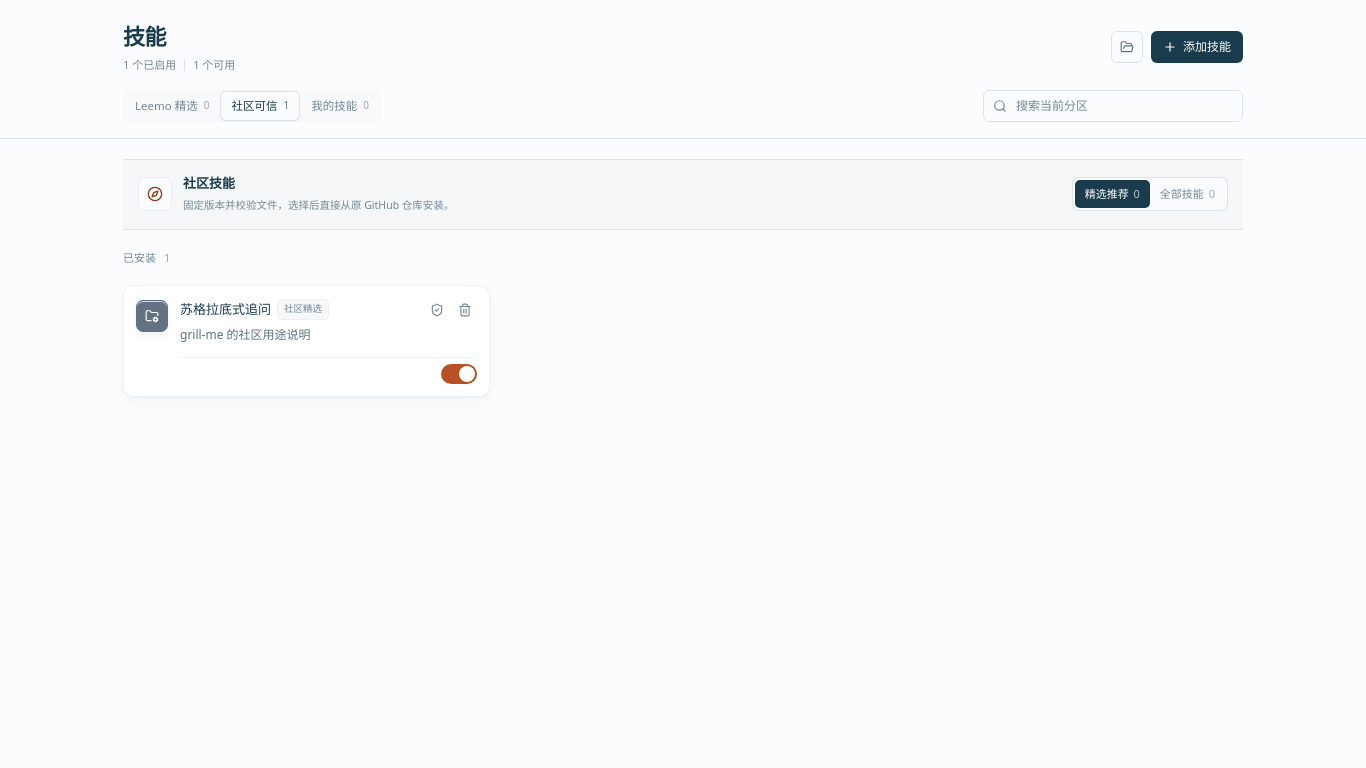
Test: SkillsPage — product-facing sections › keeps installed Skill controls available inside the detail view
The width and height of the screenshot is (1366, 768).
What coordinates should you click on to do the following:
click the button with aria-label "查看 苏格拉底式追问 详情"
I would click on:
 (226, 310)
Its box is [180,300,271,319].
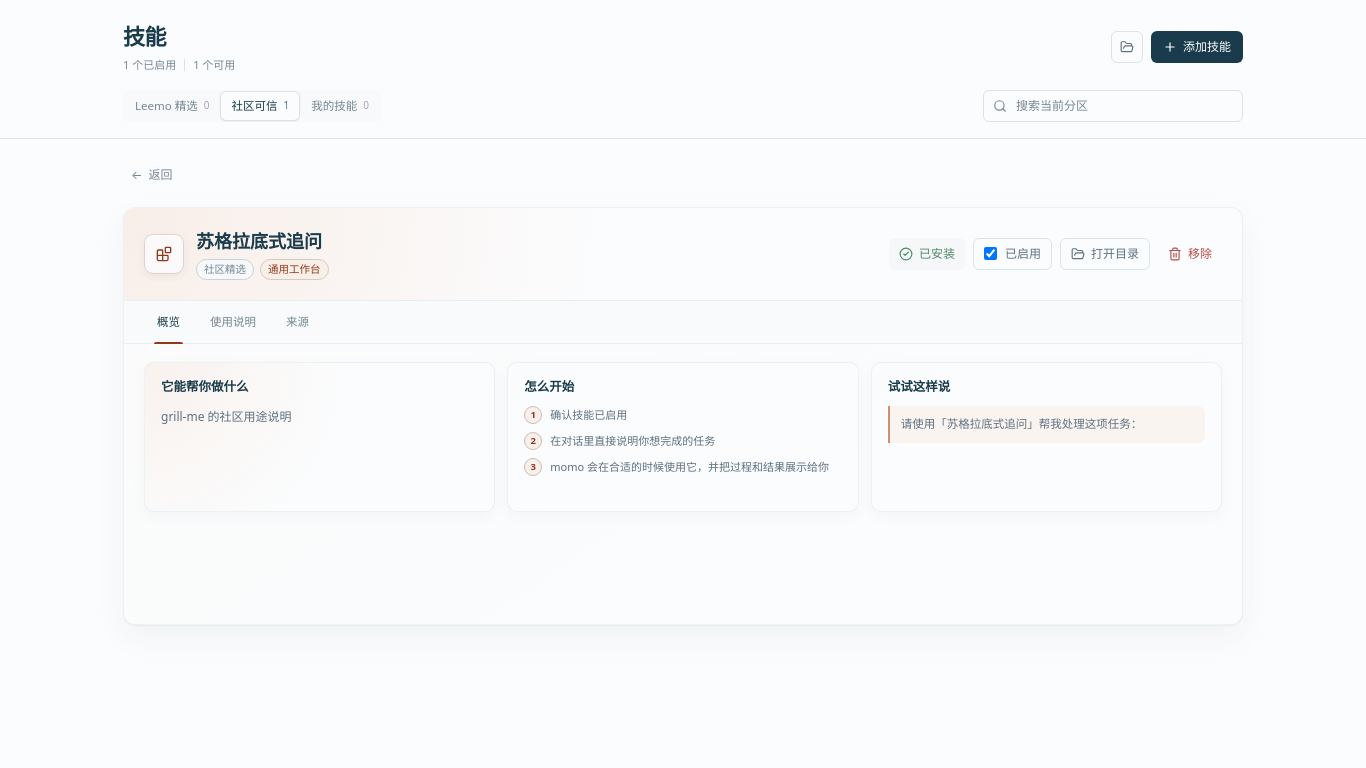
Check: the checkbox named "让 momo 用 苏格拉底式追问" is checked
What coordinates should you click on to do the following:
click the checkbox named "让 momo 用 苏格拉底式追问"
I would click on:
 (990, 254)
Its box is [984,247,997,260].
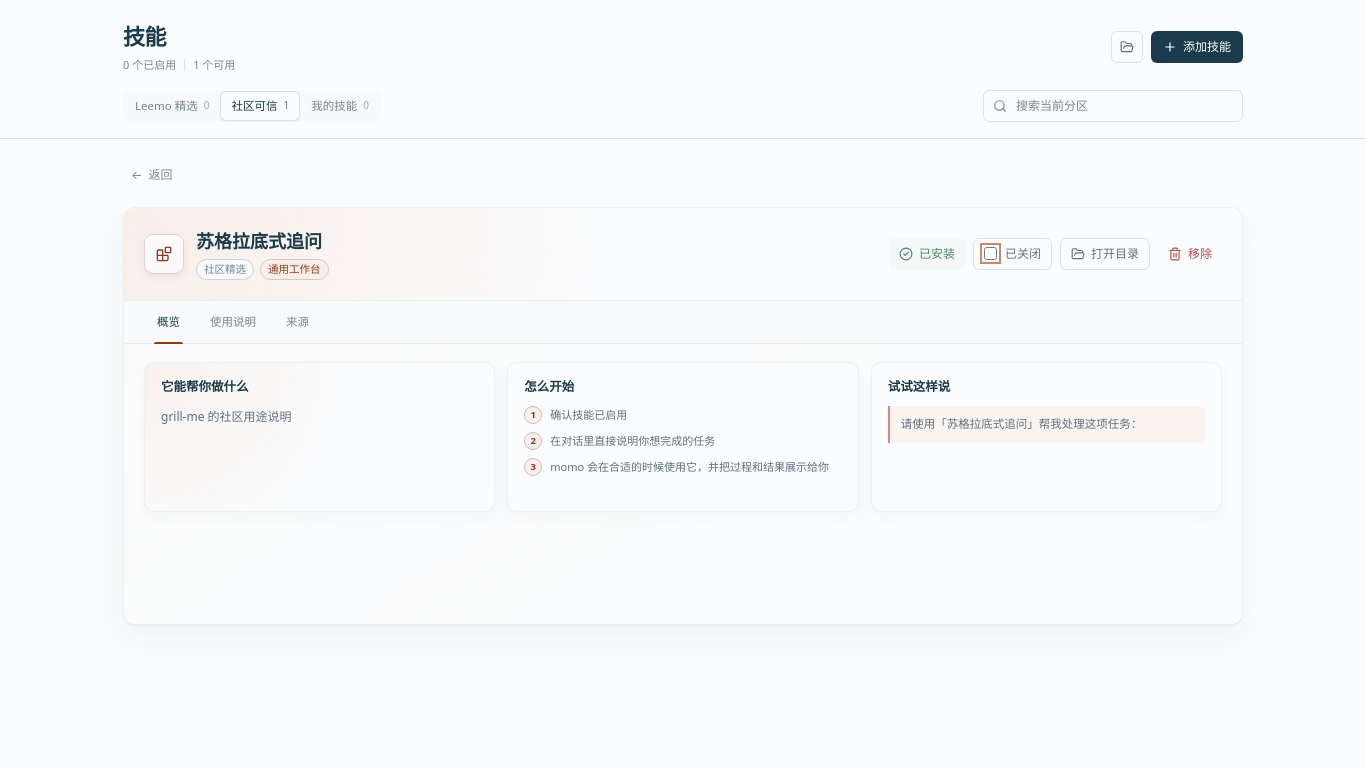
What coordinates should you click on to do the following:
click the button with aria-label "打开技能目录"
I would click on:
 (1105, 254)
Its box is [1060,238,1150,270].
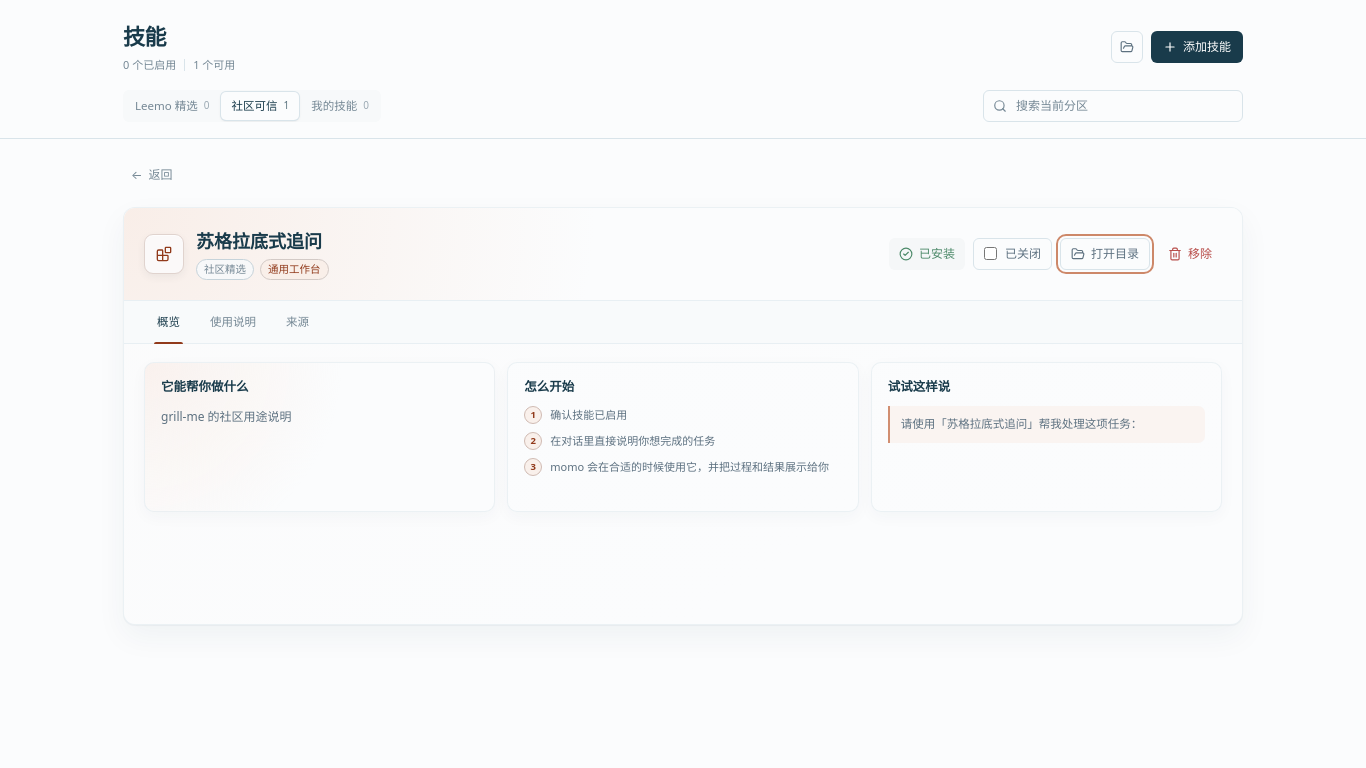
What coordinates should you click on to do the following:
click the button with aria-label "移除 苏格拉底式追问"
I would click on:
 (1190, 254)
Its box is [1158,238,1222,270].
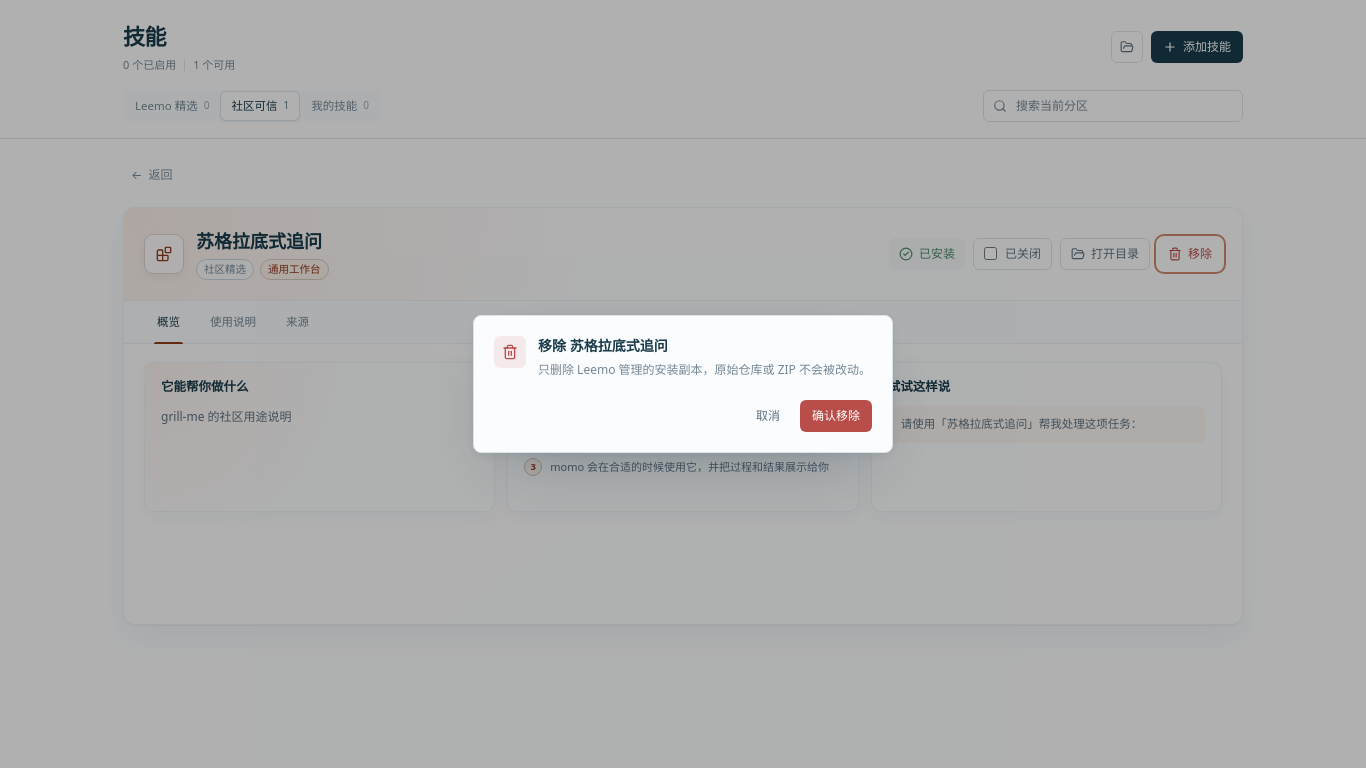
What coordinates should you click on to do the following:
click the button "确认移除"
I would click on:
 (836, 416)
Its box is [800,400,872,432].
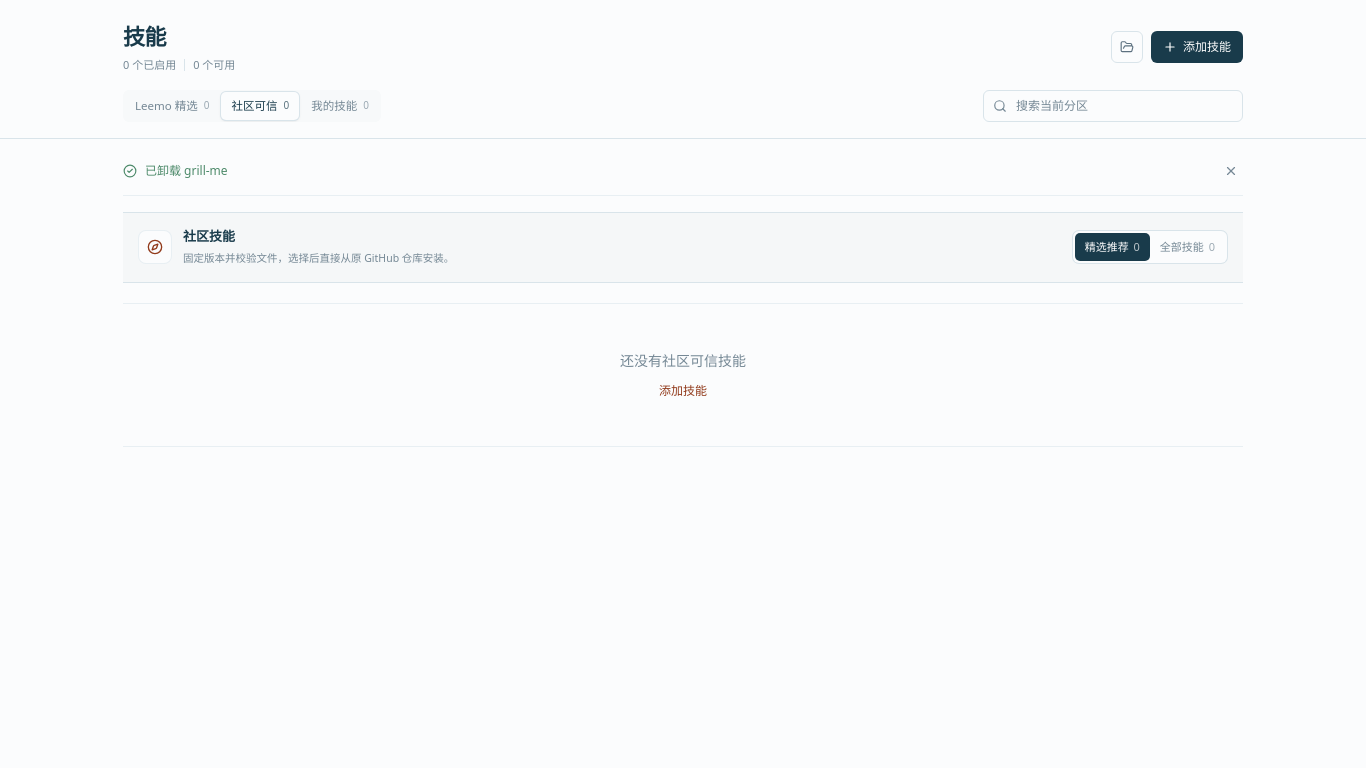
Check: the element "技能详情" is gone
